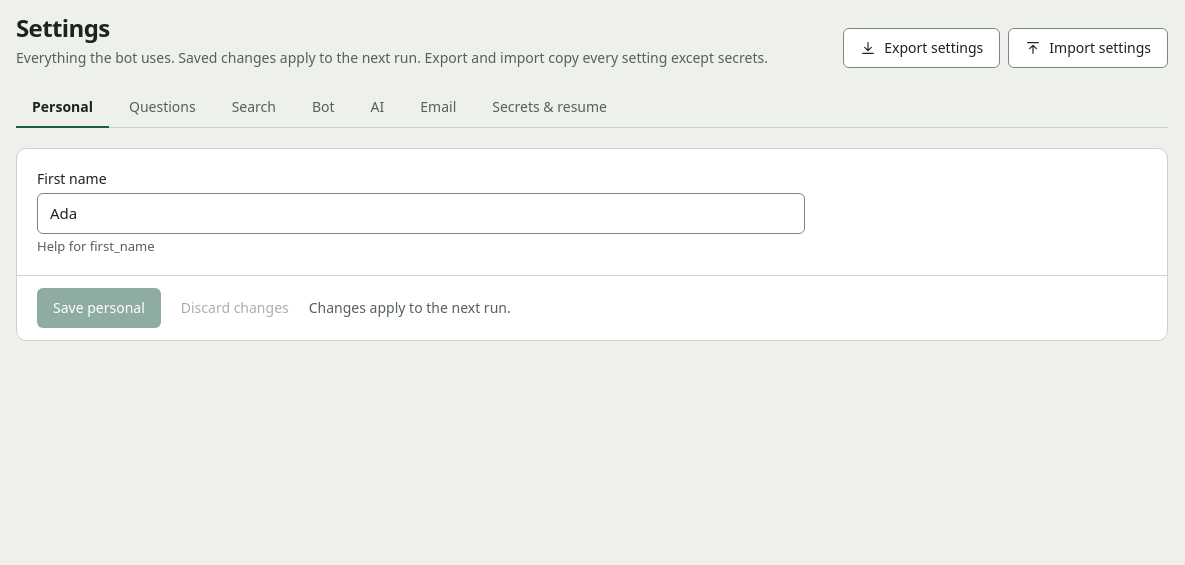
it: shows field error from 422
The width and height of the screenshot is (1185, 565).
Click the tab "Questions".
click(162, 108)  # box 113,88 -> 212,128
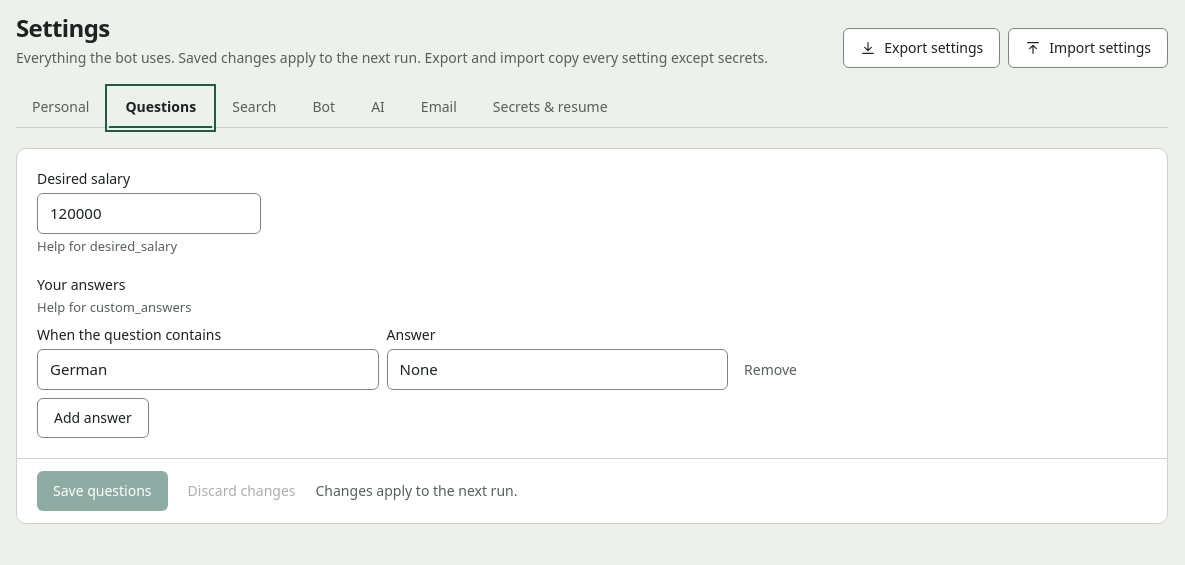
Replace the text in the field labelled "Desired salary" with "abc" at [149, 213], box 37,193 -> 261,234
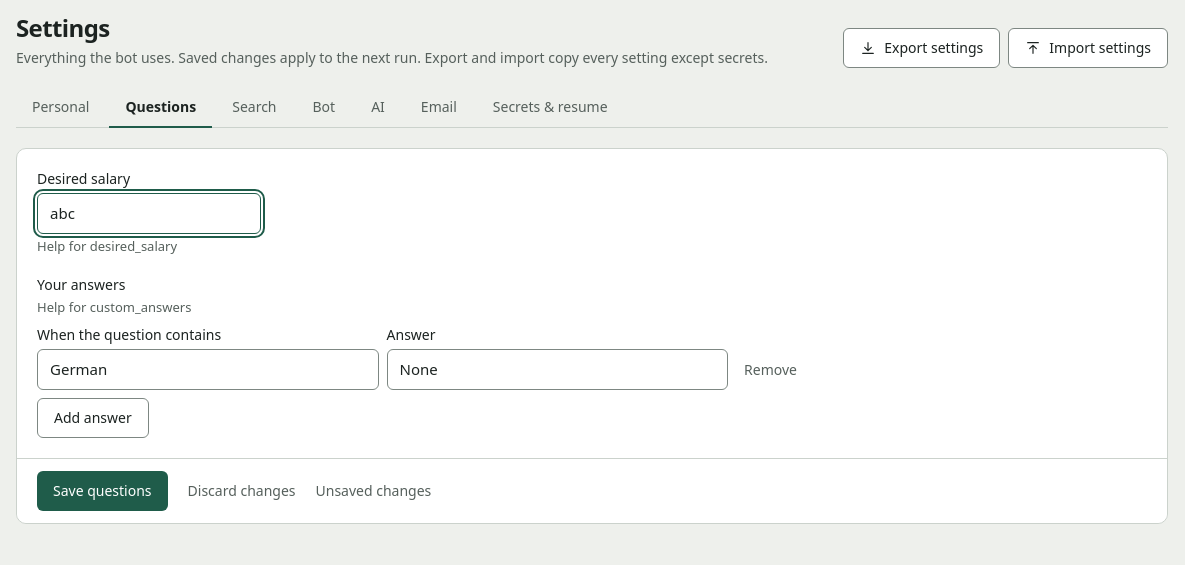
Click the button "Save questions".
click(102, 491)  # box 37,471 -> 168,511
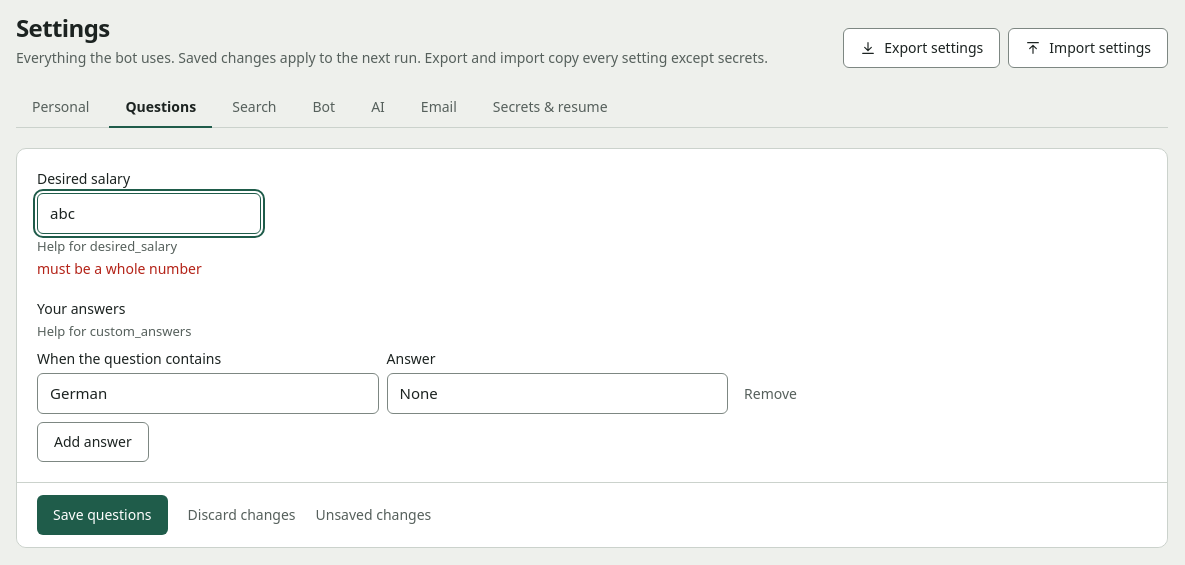
Now the text "must be a whole number" is shown, box 37,259 -> 202,278
